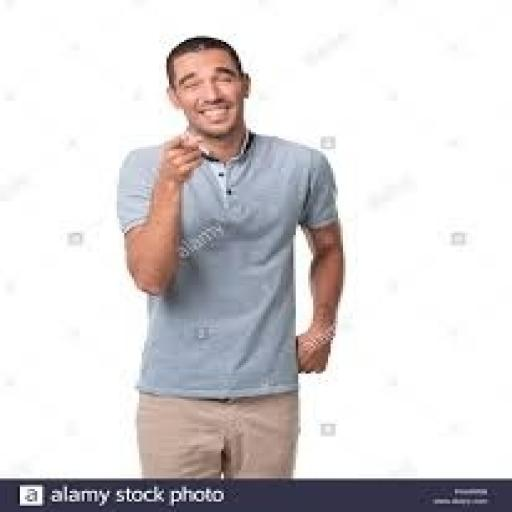laughing: (104, 28, 356, 476)
